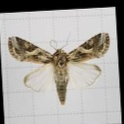Spodoptera litura: (8, 30, 112, 106)
